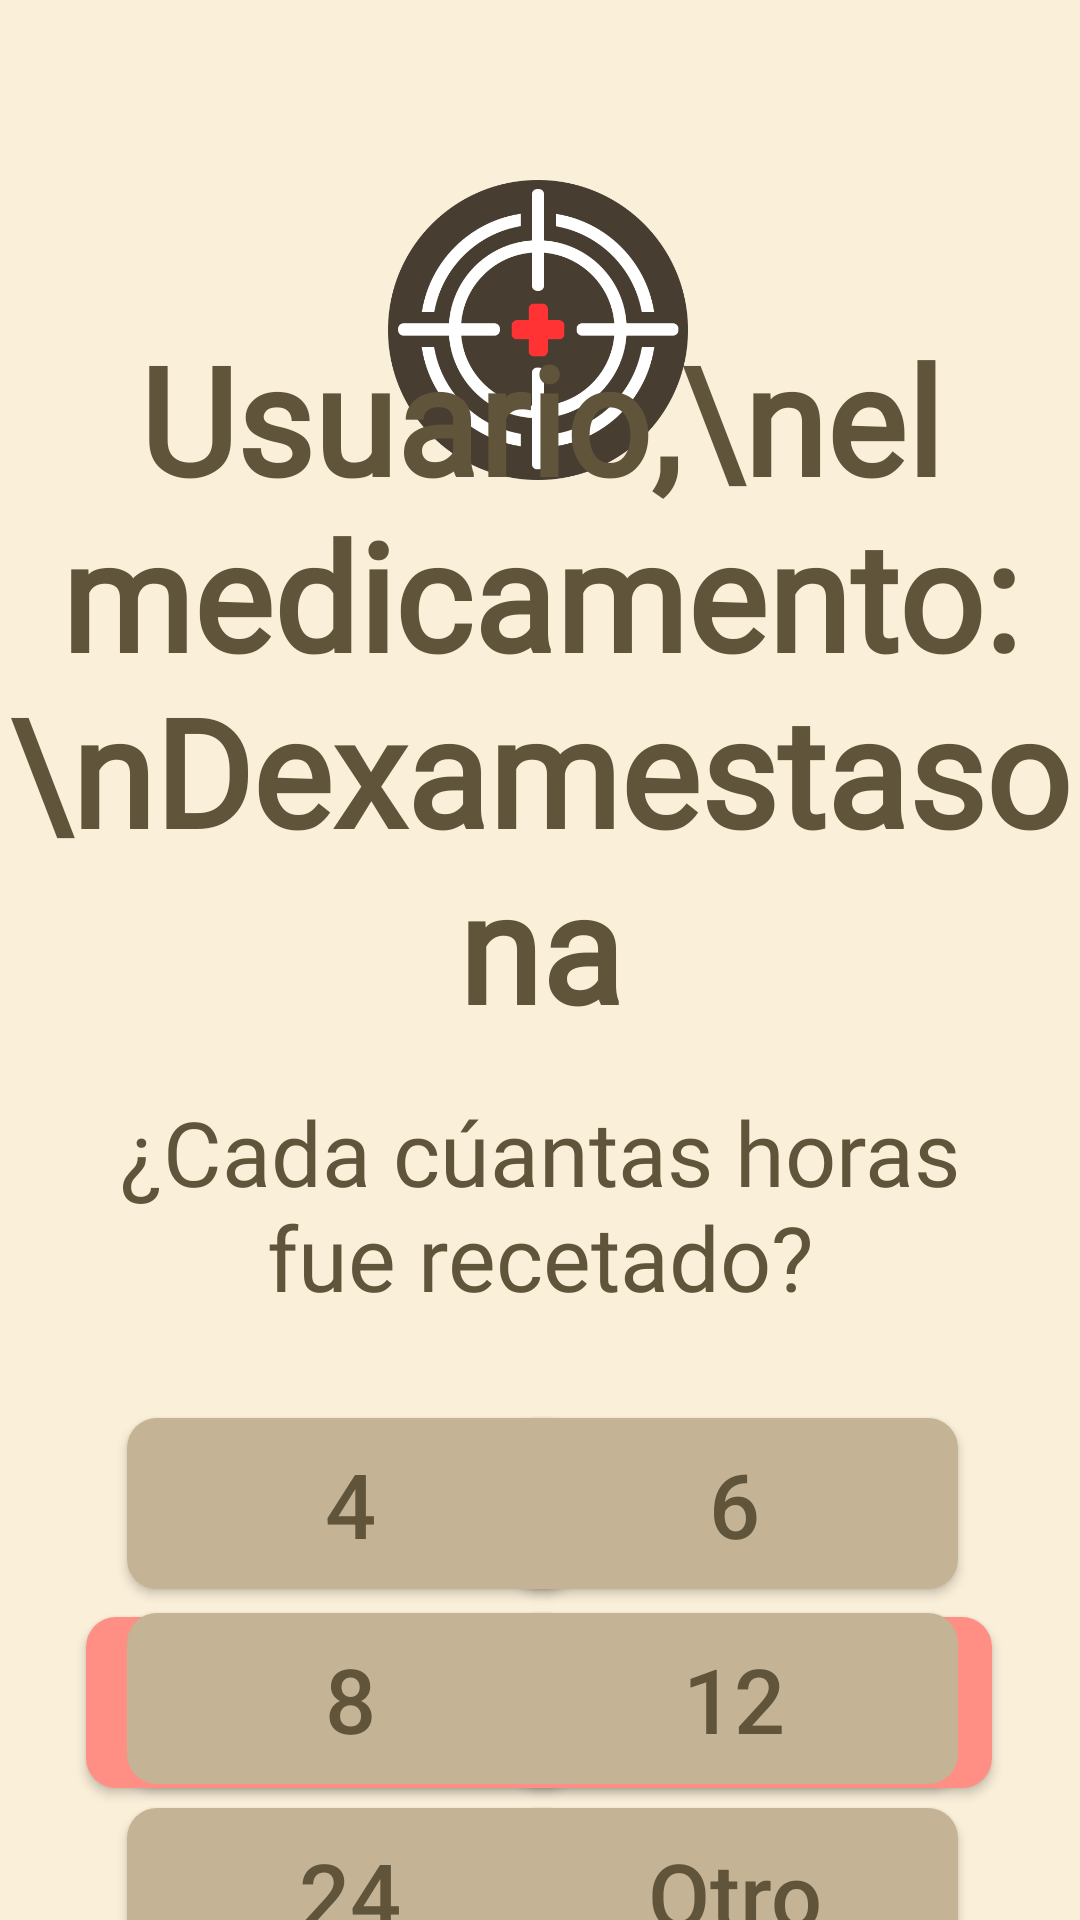

Icons on this 1080px x 1920px Android screen, each with its box as bbox=(x1, y1, x2, y2):
Icono Aplicación Mira Roja: bbox=(388, 180, 688, 480)
